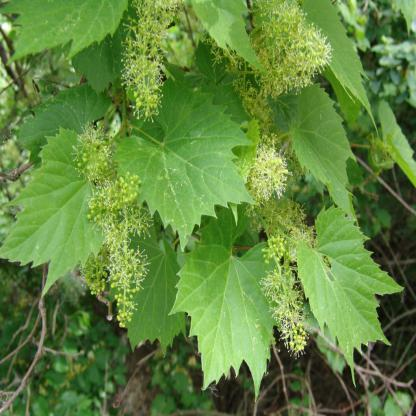grape leaf: (117, 80, 251, 246), (158, 241, 275, 401), (0, 126, 97, 302), (292, 84, 357, 223), (131, 246, 184, 358)
